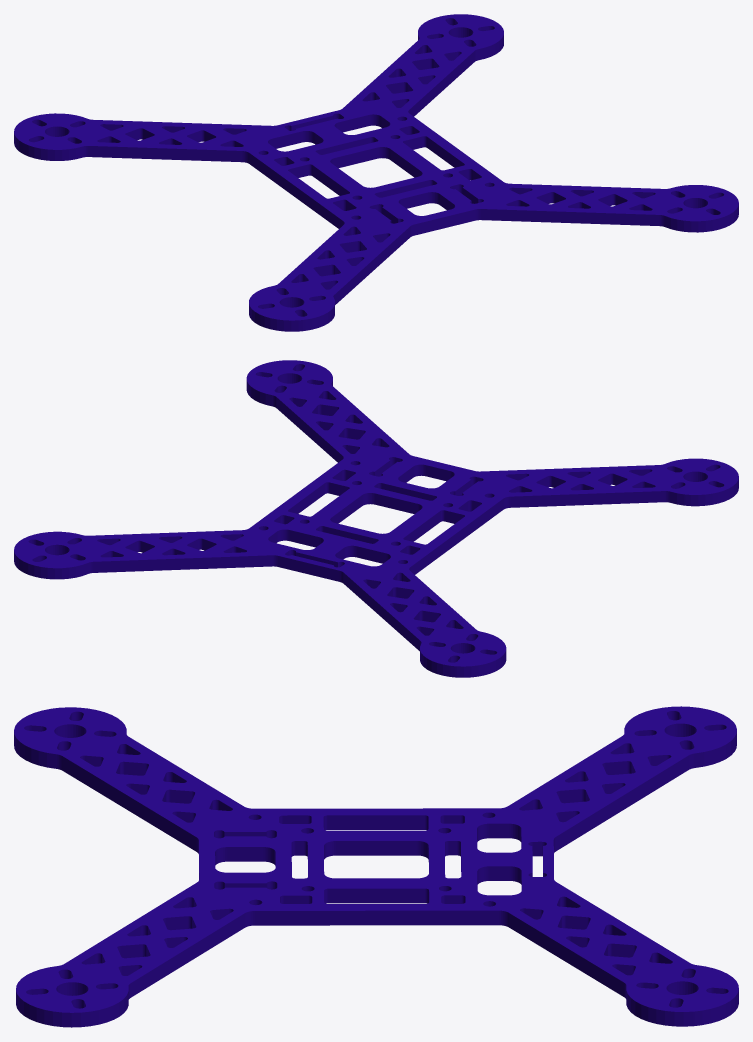
Rendered from Ara1.fbx.
3 renders of one model, top to bottom at view 1: azimuth 30°, elevation 25°; view 2: azimuth 150°, elevation 25°; view 3: azimuth 270°, elevation 25°, orthographic. The views are drawn at different scales.
Visible parts, largest first — view 1: Несущая рама-крестовина (алюмин; view 2: Несущая рама-крестовина (алюмин; view 3: Несущая рама-крестовина (алюмин.
Boxes of the visible parts, left/top/right/bottom form: Несущая рама-крестовина (алюмин: left=14, top=14, right=738, bottom=331; Несущая рама-крестовина (алюмин: left=14, top=360, right=738, bottom=677; Несущая рама-крестовина (алюмин: left=14, top=706, right=738, bottom=1027.
Bounding box in the file's own units: 1798 × 1798 × 40.
